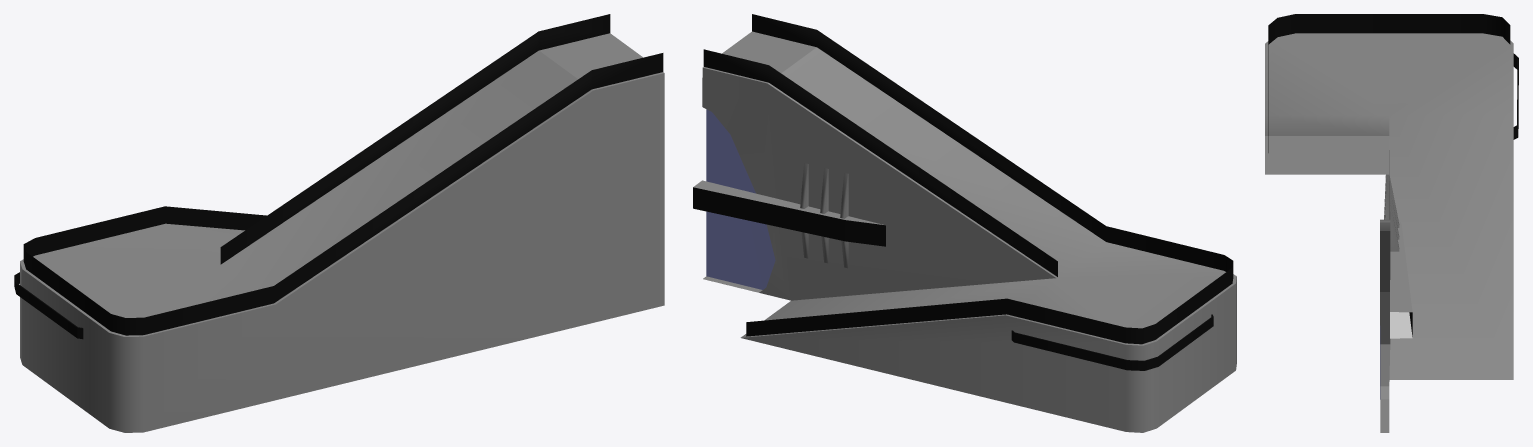
Rendered from W_M_maze_BelvedereStair_B_L3.fbx.
3 renders of one model, left to right at view 1: azimuth 30°, elevation 25°; view 2: azimuth 150°, elevation 25°; view 3: azimuth 270°, elevation 25°, orthographic. The views are drawn at different scales.
Parts seen in each view (by area): view 1: W_M_maze_BelvedereStair_B_L3; view 2: W_M_maze_BelvedereStair_B_L3; view 3: W_M_maze_BelvedereStair_B_L3.
Boxes of the visible parts, x1,y1,x2,y2 form: W_M_maze_BelvedereStair_B_L3: [14, 14, 664, 432]; W_M_maze_BelvedereStair_B_L3: [693, 14, 1236, 432]; W_M_maze_BelvedereStair_B_L3: [1265, 14, 1518, 432].
Bounding box in the file's own units: 32.87 × 11.89 × 14.44.
